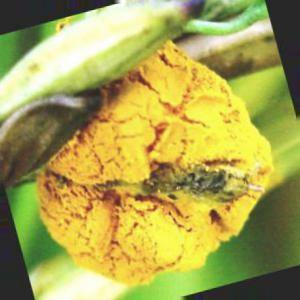Leaf_Scald: (112, 64, 198, 278), (205, 72, 237, 254), (54, 135, 106, 239)
